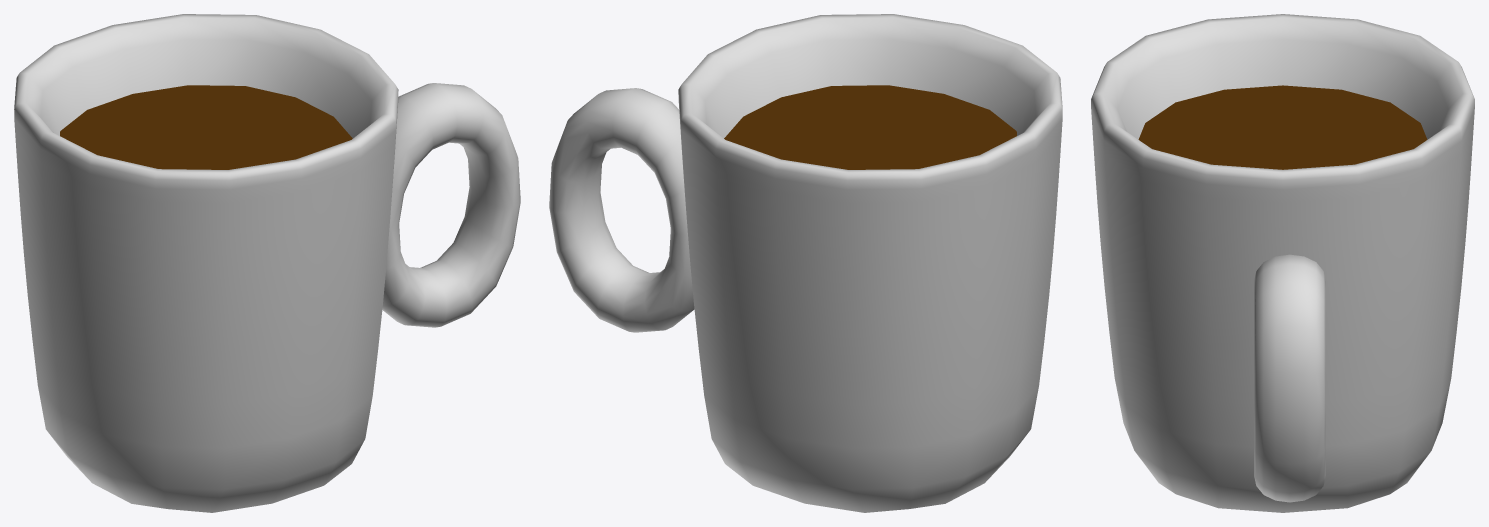
Rendered from coffee.fbx.
3 views of the same model, side by side, from view 1: azimuth 30°, elevation 25°; view 2: azimuth 150°, elevation 25°; view 3: azimuth 270°, elevation 25° (orthographic).
Parts seen in each view (by area): view 1: coffee; view 2: coffee; view 3: coffee.
Part boxes in pixels (x1,y1,x2,y2): coffee: (14,14,520,512); coffee: (549,14,1062,512); coffee: (1091,14,1474,512).
Bounding box in the file's own units: 22.99 × 17.45 × 16.01.
